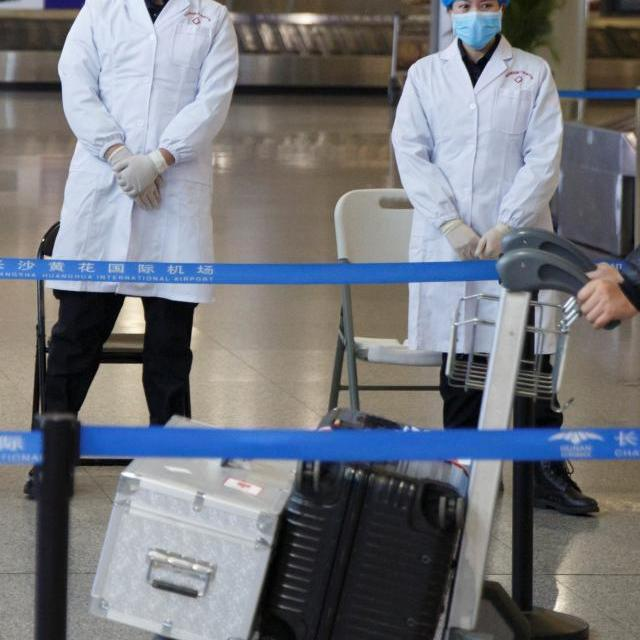Gloves: (109, 148, 163, 213), (116, 148, 163, 190), (444, 218, 478, 259), (472, 225, 503, 259)
Mask: (451, 10, 501, 51)
NO-Safety Vest: (75, 0, 214, 239), (409, 55, 550, 247)
Person: (393, 0, 602, 520), (27, 0, 237, 490)
